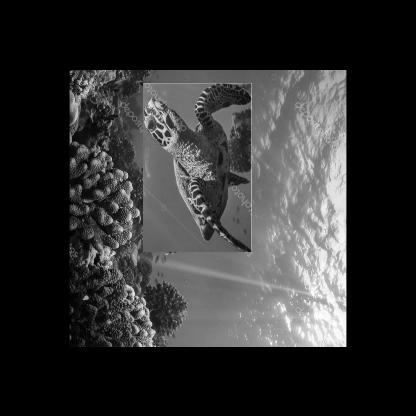turtle: (141, 82, 250, 250)
